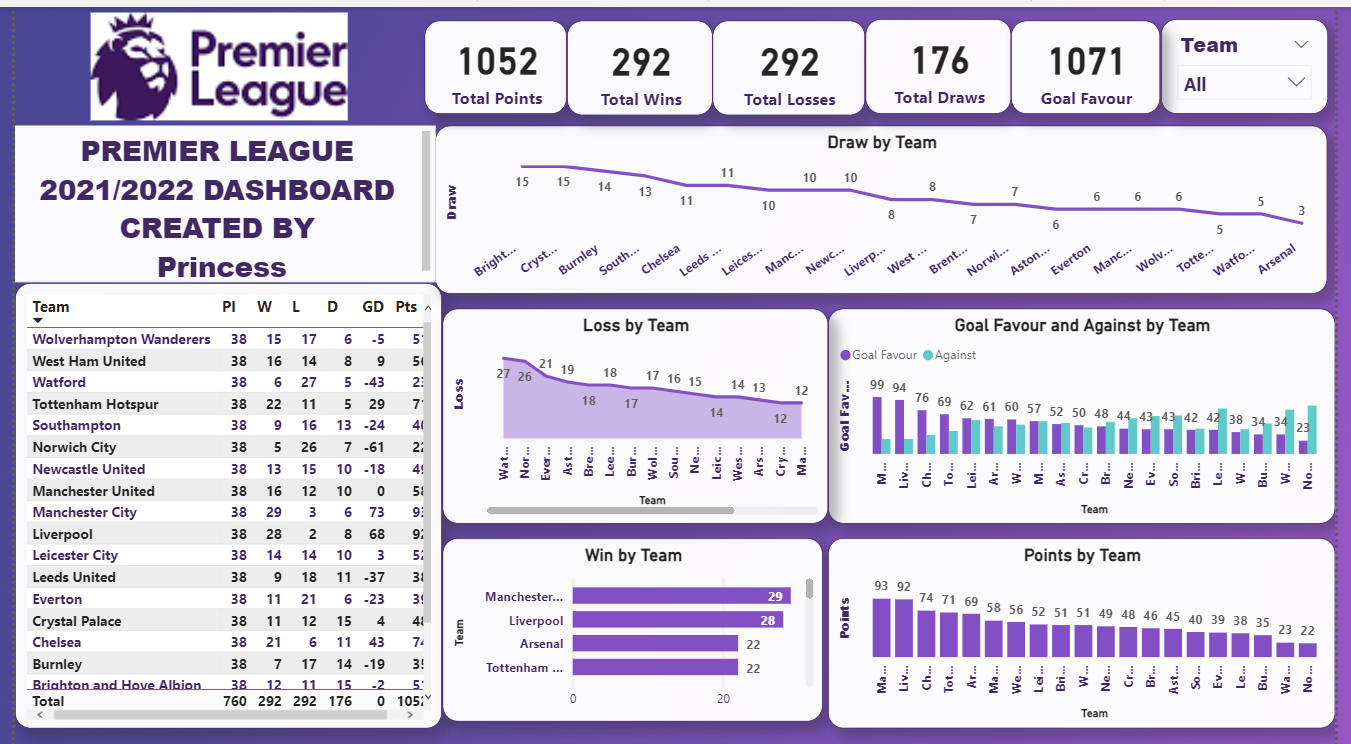

The dashboard page shown, as its layout file describes it:
{"tool":"powerbi","page":{"name":"PremierLeague","canvas":[1280,720],"ordinal":0},"visuals":[{"type":"card","fields":{"Values":["Sum(PREMIER LEAGUE TABLE.Pts)"]},"box":[397.4,12.7,138.3,90.6],"z":0,"group":"g1"},{"type":"tableEx","fields":{"Values":["PREMIER LEAGUE TABLE.Team","Sum(PREMIER LEAGUE TABLE.Pl)","Sum(PREMIER LEAGUE TABLE.W)","Sum(PREMIER LEAGUE TABLE.L)","Sum(PREMIER LEAGUE TABLE.D)","Sum(PREMIER LEAGUE TABLE.GD)","Sum(PREMIER LEAGUE TABLE.Pts)"]},"box":[0,267,414.2,432],"z":0},{"type":"card","fields":{"Values":["Sum(PREMIER LEAGUE TABLE.W)"]},"box":[535.7,12.7,141.5,92.2],"z":1000,"group":"g1"},{"type":"lineChart","fields":{"Category":["PREMIER LEAGUE TABLE.Team"],"Y":["Sum(PREMIER LEAGUE TABLE.D)"]},"box":[407.7,114.9,865.6,163.4],"z":1000},{"type":"card","fields":{"Values":["Sum(PREMIER LEAGUE TABLE.L)"]},"box":[677.1,12.7,147.8,92.2],"z":2000,"group":"g1"},{"type":"clusteredColumnChart","fields":{"Category":["PREMIER LEAGUE TABLE.Team"],"Y":["Sum(PREMIER LEAGUE TABLE.F)","Sum(PREMIER LEAGUE TABLE.A)"]},"box":[788,292.9,491.9,208.7],"z":2000},{"type":"card","fields":{"Values":["Sum(PREMIER LEAGUE TABLE.D)"]},"box":[824.9,11.1,141.5,92.2],"z":3000,"group":"g1"},{"type":"barChart","fields":{"Category":["PREMIER LEAGUE TABLE.Team"],"Y":["Sum(PREMIER LEAGUE TABLE.W)"]},"box":[414.2,514.5,368.9,178],"z":3000},{"type":"card","fields":{"Values":["Sum(PREMIER LEAGUE TABLE.F)"]},"box":[966.4,12.7,144.6,90.6],"z":4000,"group":"g1"},{"type":"areaChart","fields":{"Category":["PREMIER LEAGUE TABLE.Team"],"Y":["Sum(PREMIER LEAGUE TABLE.L)"]},"box":[414.2,292.9,373.8,208.7],"z":4000},{"type":"clusteredColumnChart","fields":{"Category":["PREMIER LEAGUE TABLE.Team"],"Y":["Sum(PREMIER LEAGUE TABLE.Pts)"]},"box":[788,514.5,491.9,184.4],"z":5000},{"type":"slicer","fields":{"Values":["PREMIER LEAGUE TABLE.Team"]},"box":[1111,11.1,162.1,92.2],"z":6000},{"type":"textbox","box":[0,114.9,407.7,152.1],"z":7000},{"type":"image","box":[0,0,396.4,114.9],"z":8000},{"type":"group","id":"g1","title":"Group 1","box":[397.4,11.1,713.6,93.8],"z":9000}]}

Visuals, with their boxes in screenshot pixels (x1, y1, x2, y2), scaled from the page's 1280x720 canvas onto the 1351x744 screenshot:
card - Sum(PREMIER LEAGUE TABLE.Pts): 419/13/565/107
tableEx - PREMIER LEAGUE TABLE.Team x Sum(PREMIER LEAGUE TABLE.Pl): 0/276/437/722
card - Sum(PREMIER LEAGUE TABLE.W): 565/13/715/108
lineChart - PREMIER LEAGUE TABLE.Team x Sum(PREMIER LEAGUE TABLE.D): 430/119/1344/288
card - Sum(PREMIER LEAGUE TABLE.L): 715/13/871/108
clusteredColumnChart - PREMIER LEAGUE TABLE.Team x Sum(PREMIER LEAGUE TABLE.F): 832/303/1350/518
card - Sum(PREMIER LEAGUE TABLE.D): 871/11/1020/107
barChart - PREMIER LEAGUE TABLE.Team x Sum(PREMIER LEAGUE TABLE.W): 437/532/827/716
card - Sum(PREMIER LEAGUE TABLE.F): 1020/13/1173/107
areaChart - PREMIER LEAGUE TABLE.Team x Sum(PREMIER LEAGUE TABLE.L): 437/303/832/518
clusteredColumnChart - PREMIER LEAGUE TABLE.Team x Sum(PREMIER LEAGUE TABLE.Pts): 832/532/1350/722
slicer - PREMIER LEAGUE TABLE.Team: 1173/11/1344/107
textbox: 0/119/430/276
image: 0/0/418/119
"Group 1" group: 419/11/1173/108
